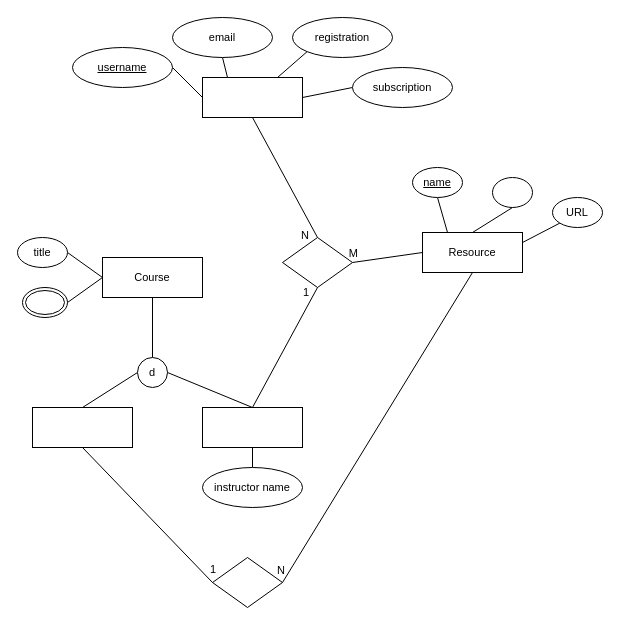
This 620x625 diagram has some shape labels left out. Each missing label, with the box of its shape:
Instructor Course: (202, 406, 302, 448)
Self-paced Course: (32, 406, 132, 448)
Student: (202, 76, 302, 118)
tags: (22, 286, 68, 318)
type: (492, 176, 532, 208)
